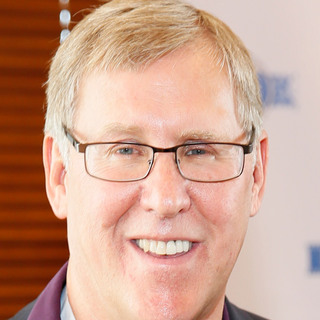eye: (177, 141, 222, 163), (108, 139, 143, 159)
